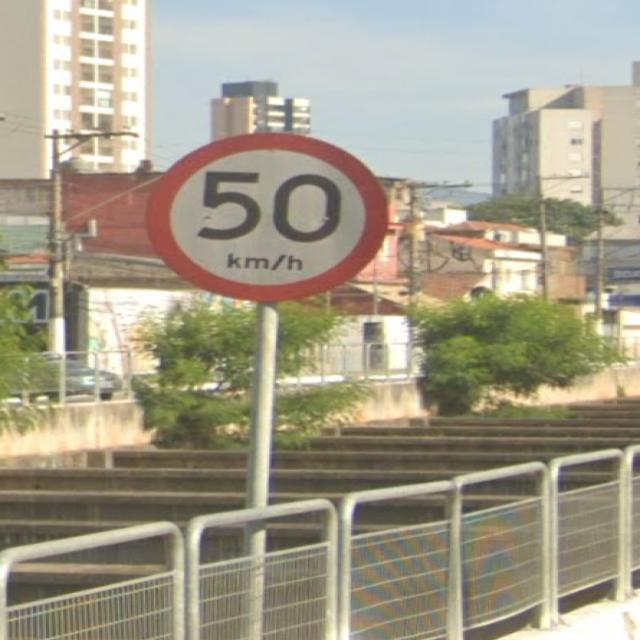speed limit: (112, 86, 410, 327)
